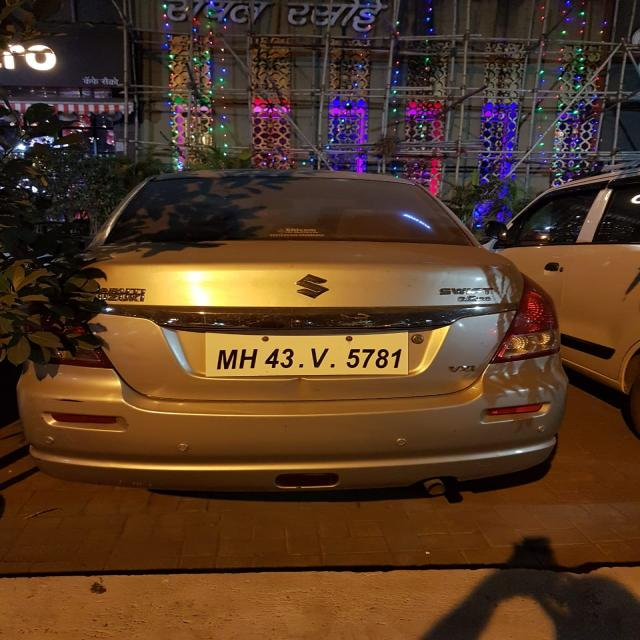Number-Plate: (205, 333, 406, 374)
